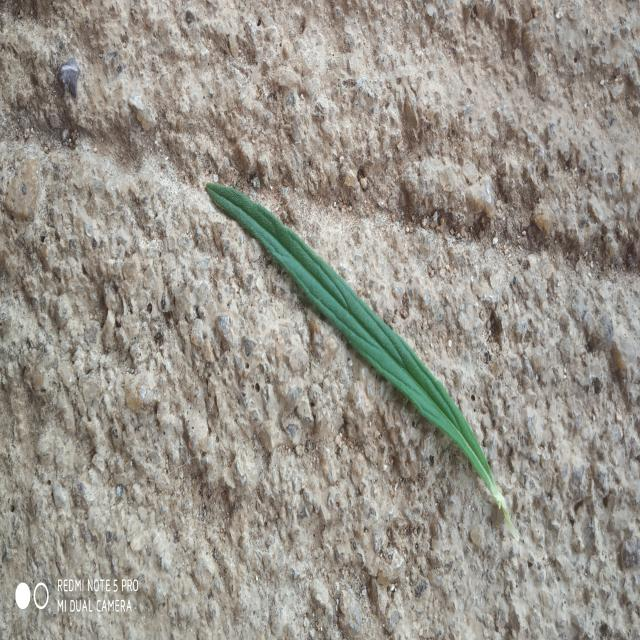thambe: (206, 182, 519, 540)
